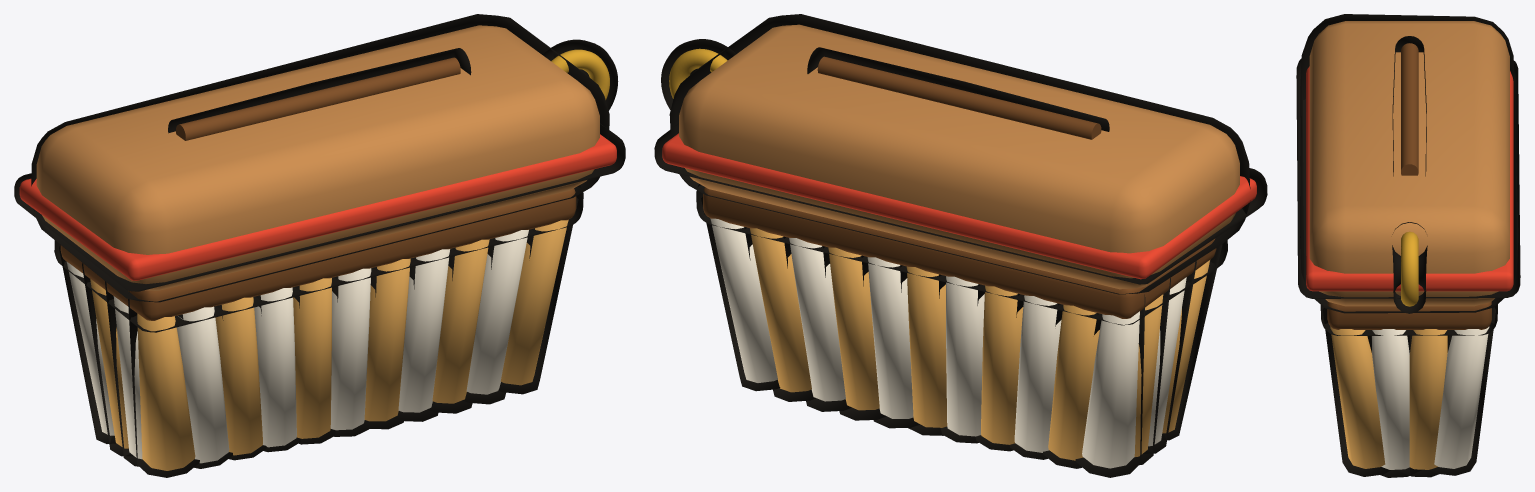
The model's file is scrubbrush.glb.
3 views of the same model, side by side, from view 1: azimuth 30°, elevation 25°; view 2: azimuth 150°, elevation 25°; view 3: azimuth 270°, elevation 25° (orthographic). The views are drawn at different scales.
Parts seen in each view (by area): view 1: ScrubBrush, ScrubBrush_outline; view 2: ScrubBrush, ScrubBrush_outline; view 3: ScrubBrush, ScrubBrush_outline.
Part boxes in pixels (box(x1,y1,x2,y2)): ScrubBrush: box(19, 25, 616, 470); ScrubBrush_outline: box(14, 14, 625, 477); ScrubBrush: box(662, 24, 1256, 468); ScrubBrush_outline: box(654, 14, 1267, 477); ScrubBrush: box(1306, 21, 1513, 469); ScrubBrush_outline: box(1296, 14, 1520, 477).
Bounding box in the file's own units: 1.6 × 0.9139 × 0.6258.
